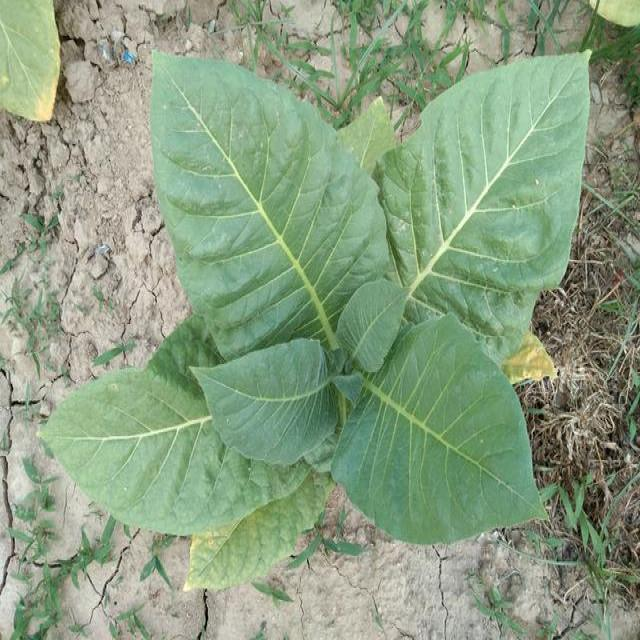crop: (61, 51, 598, 589), (1, 0, 64, 119)
